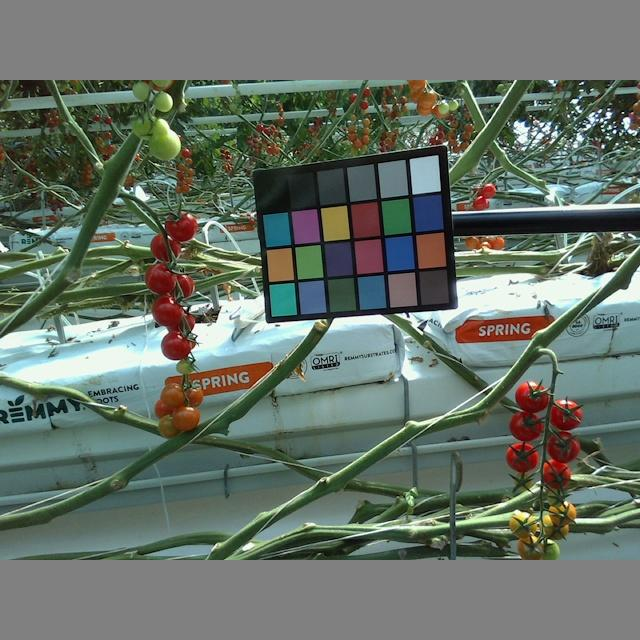green: (147, 126, 183, 163), (128, 111, 166, 139), (511, 469, 534, 493), (132, 81, 153, 103), (154, 93, 173, 113), (174, 358, 193, 373)
pink: (172, 404, 202, 433), (507, 512, 539, 538), (159, 382, 187, 410), (156, 413, 184, 440), (548, 500, 577, 526), (515, 535, 545, 560)
red: (150, 294, 187, 327), (544, 431, 581, 464), (508, 410, 546, 442), (163, 209, 198, 242), (142, 262, 177, 295), (513, 379, 549, 411), (546, 400, 583, 430), (504, 442, 539, 473), (160, 329, 193, 361), (148, 230, 183, 260), (542, 458, 573, 491)
